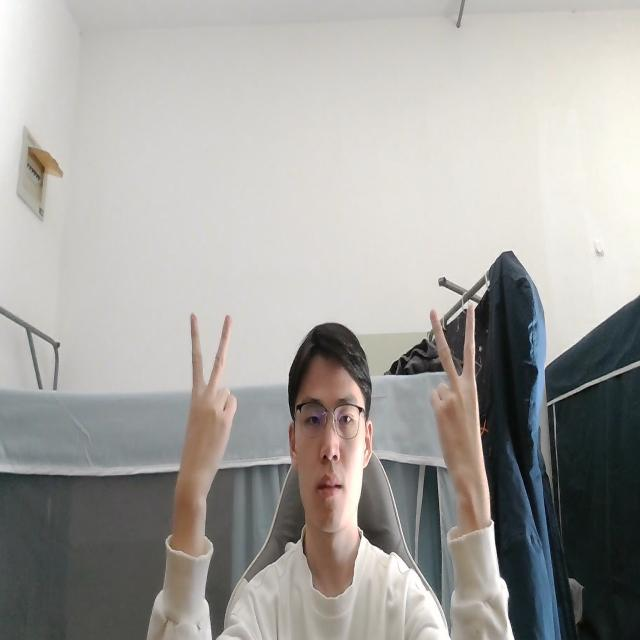yes: (426, 293, 489, 511), (175, 302, 239, 498)
